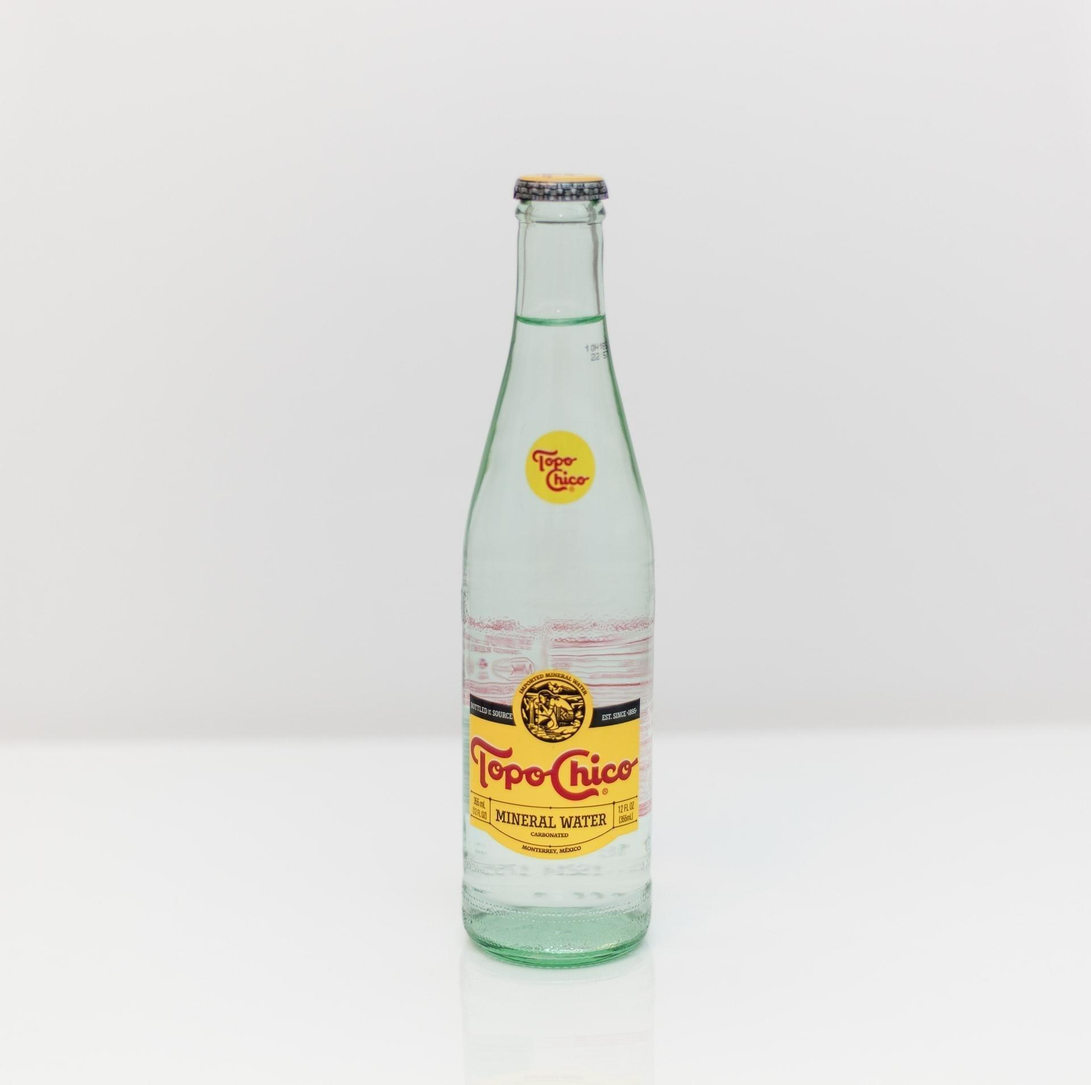bottle-glass: (448, 161, 670, 976)
